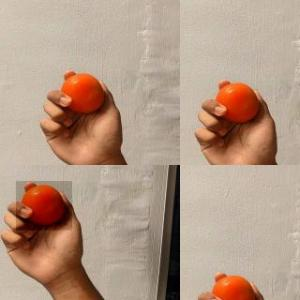tomato: (16, 182, 72, 230)
